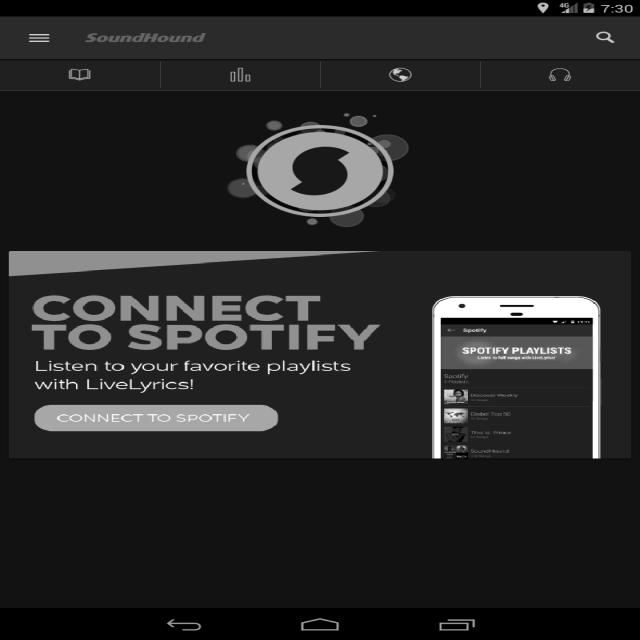Button: (32, 404, 282, 432)
ImageButton: (376, 63, 426, 85), (56, 63, 102, 83), (218, 67, 259, 85), (542, 66, 580, 84), (19, 28, 54, 44), (590, 28, 616, 46)
ImageView: (429, 294, 597, 462), (232, 113, 434, 227)
TextView: (26, 294, 377, 350), (24, 356, 352, 392), (77, 28, 212, 44)
